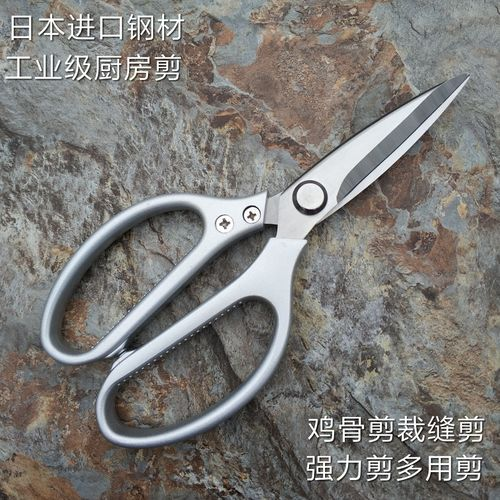scissor: (40, 73, 475, 451)
